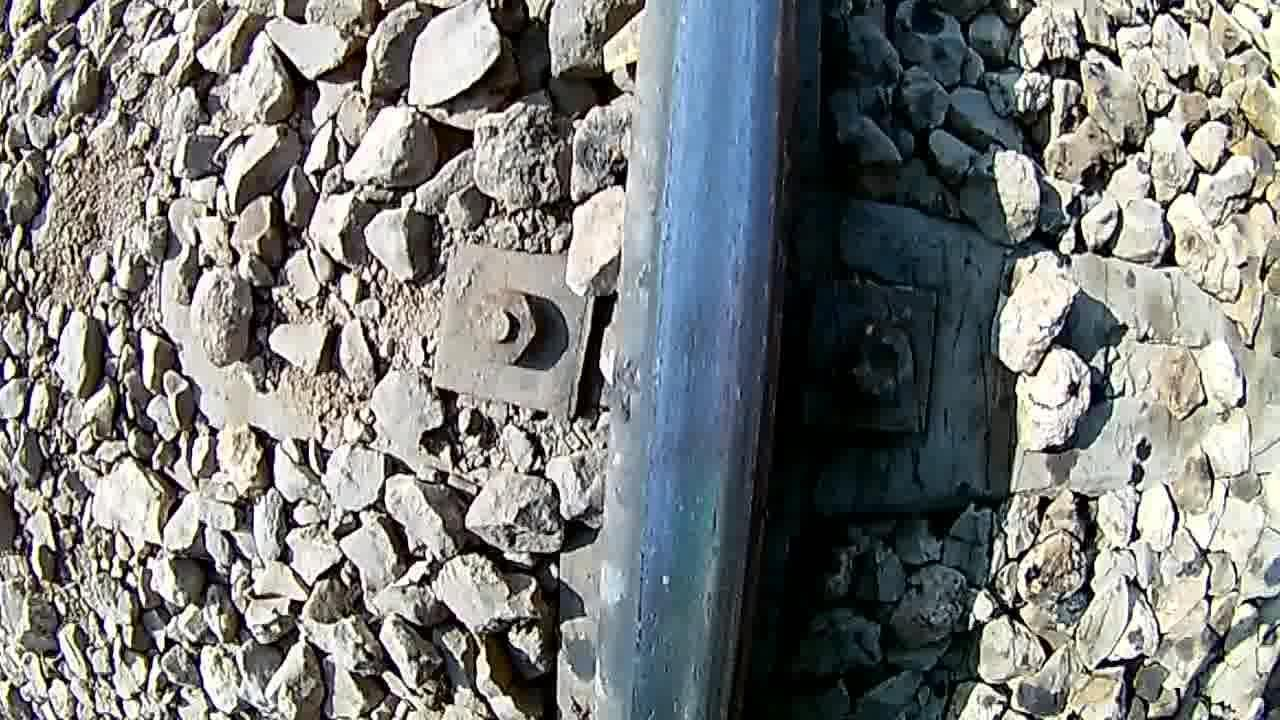crack: (587, 0, 805, 720)
